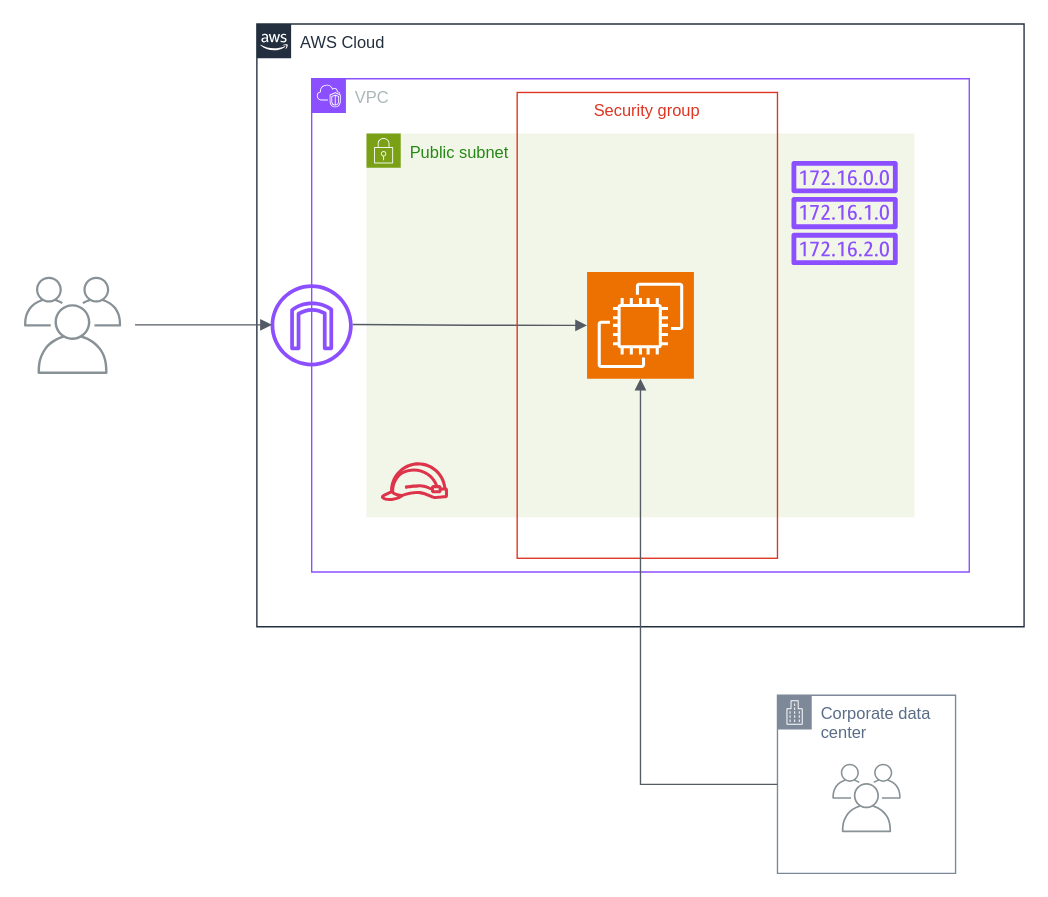
The diagram is 1048 pixels wide and 897 high, and some of its shapes have lost their labels. The centre of each missing label's shape, as x and y in pixels:
Developers: pixel 866 797
users: pixel 72 324
